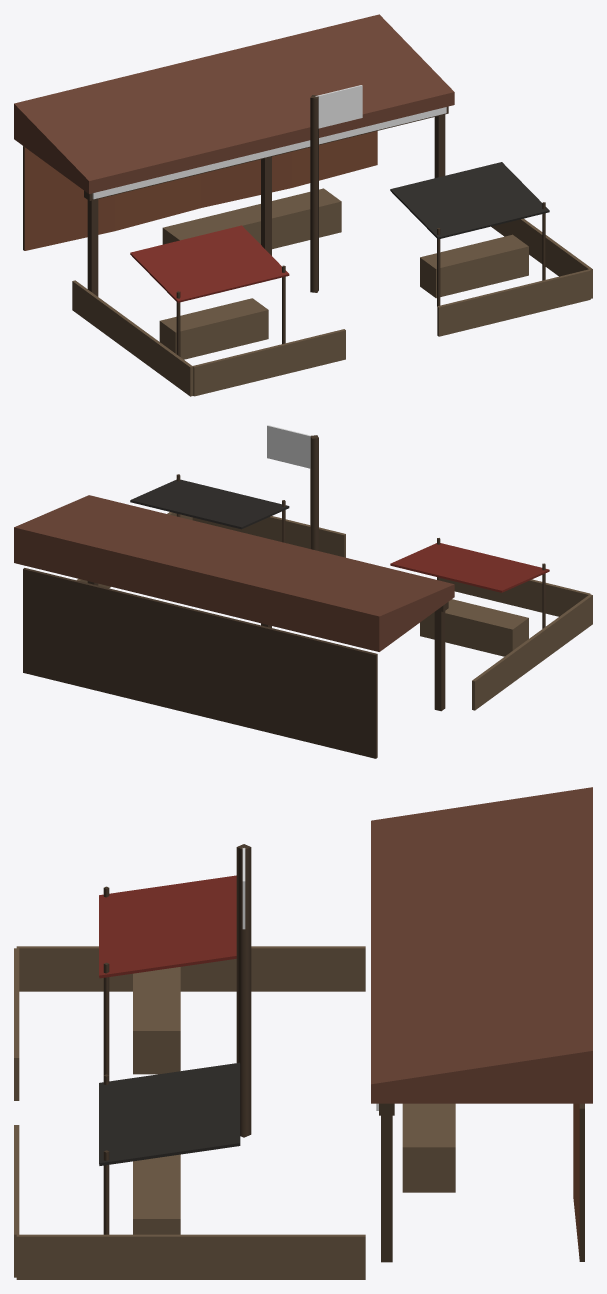
3 renders of one model, top to bottom at view 1: azimuth 30°, elevation 25°; view 2: azimuth 150°, elevation 25°; view 3: azimuth 270°, elevation 25°, orthographic. The views are drawn at different scales.
Parts seen in each view (by area): view 1: raider_building_market; view 2: raider_building_market; view 3: raider_building_market.
Boxes of the visible parts, x1,y1,x2,y2 form: raider_building_market: [14, 14, 592, 396]; raider_building_market: [14, 425, 592, 758]; raider_building_market: [14, 787, 592, 1279].
Size of the model in its own units: 13 by 6 by 10.95.
